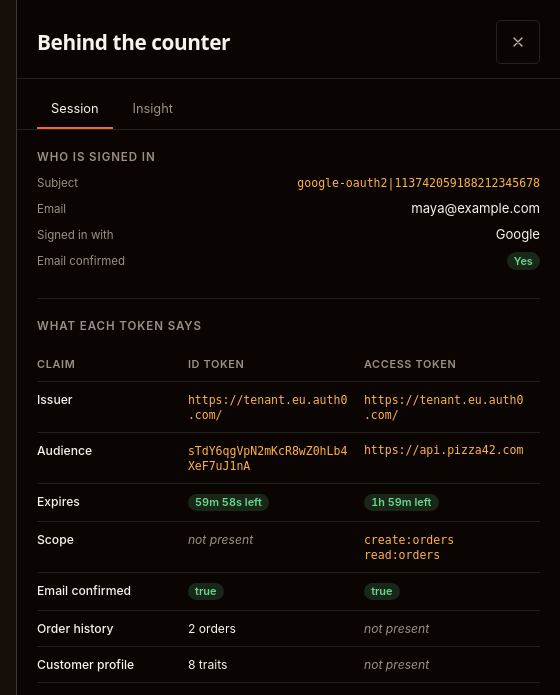
Scenario: Behind the counter — insight › says both sides agree when nothing has happened since sign-in
The image size is (560, 695).
Click the tab "Insight". click: (153,109)
box: [118,89,187,129]
(page scrolled)
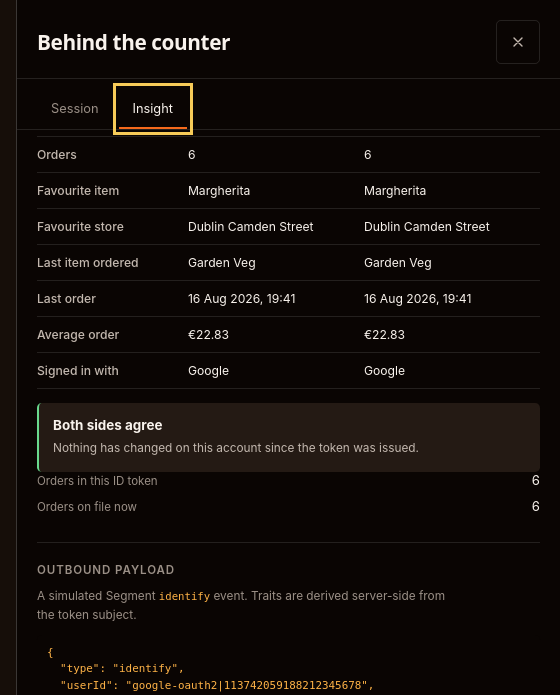
Expected: the text "Both sides agree" is shown, [53,417,162,433]
